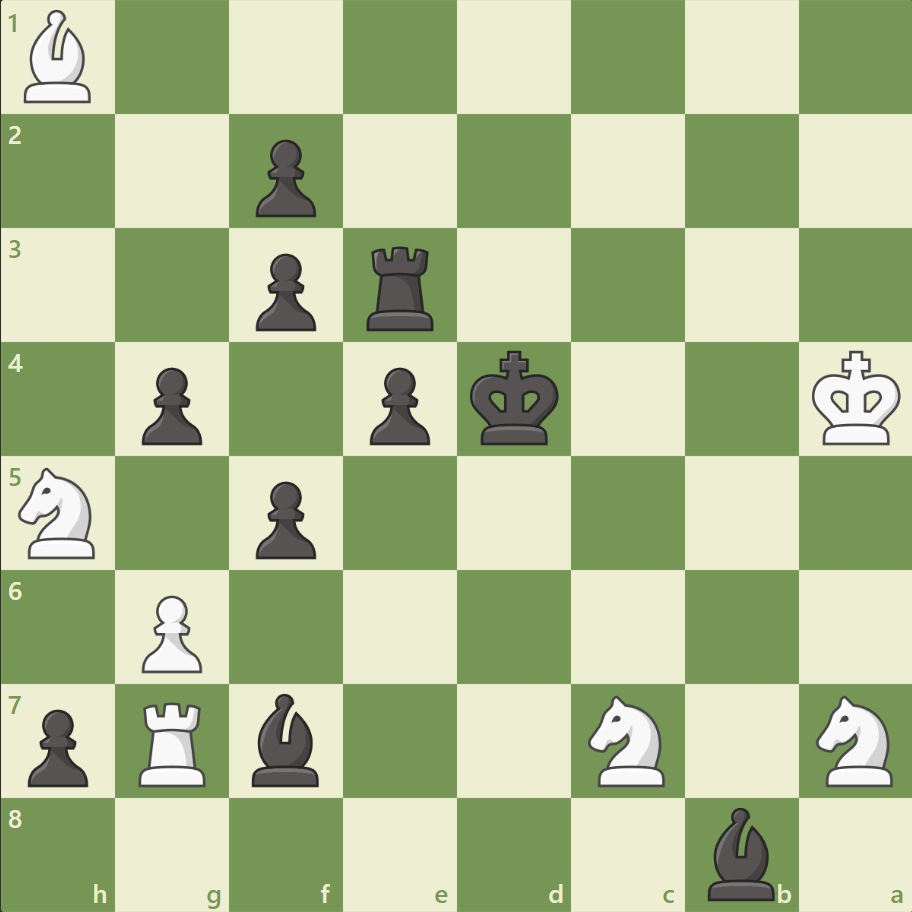B: (17, 6, 101, 109)
K: (806, 344, 906, 452)
N: (806, 688, 903, 791), (579, 688, 676, 791), (11, 461, 108, 564)
P: (133, 586, 208, 677)
R: (133, 693, 215, 790)
b: (698, 801, 782, 904), (244, 687, 328, 790)
k: (465, 344, 565, 452)
p: (20, 700, 95, 791), (247, 473, 322, 564), (133, 359, 208, 450), (247, 246, 322, 337), (247, 132, 322, 223), (361, 359, 435, 450)
r: (360, 239, 442, 336)
